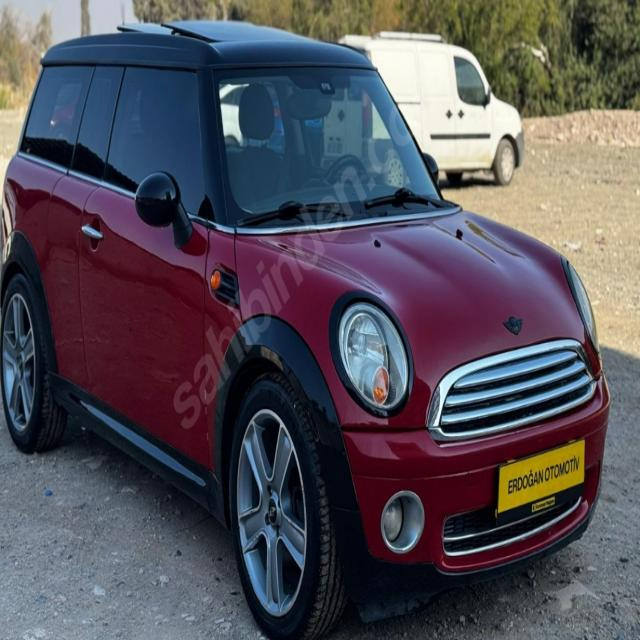mini: (497, 310, 529, 340)
